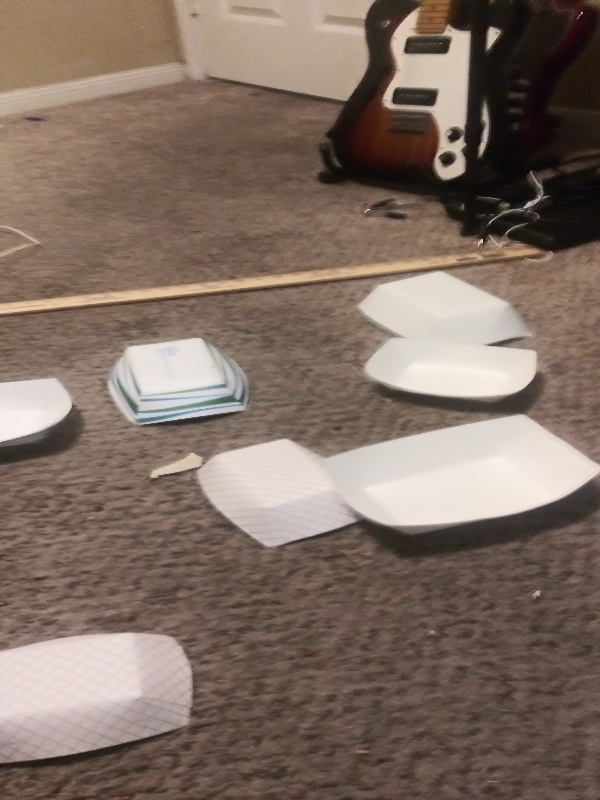plate: (315, 407, 600, 539), (1, 629, 199, 771), (190, 435, 369, 553), (352, 268, 542, 349), (102, 335, 250, 428), (361, 339, 543, 406), (1, 372, 75, 455)
